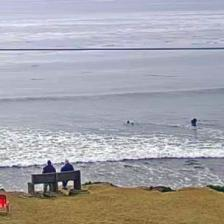surfer: (191, 118, 197, 126), (126, 120, 134, 125)
